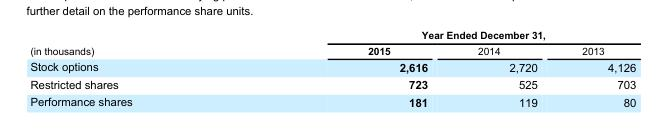table: (29, 28, 635, 108)
table column: (29, 28, 249, 108), (249, 28, 452, 108), (452, 28, 559, 108), (559, 28, 635, 108)
table column header: (29, 28, 635, 57)
table row: (29, 57, 635, 75), (29, 75, 635, 92), (29, 92, 635, 108), (29, 42, 635, 57), (29, 28, 635, 42)
table spanning cell: (29, 28, 249, 57), (249, 28, 635, 42)
